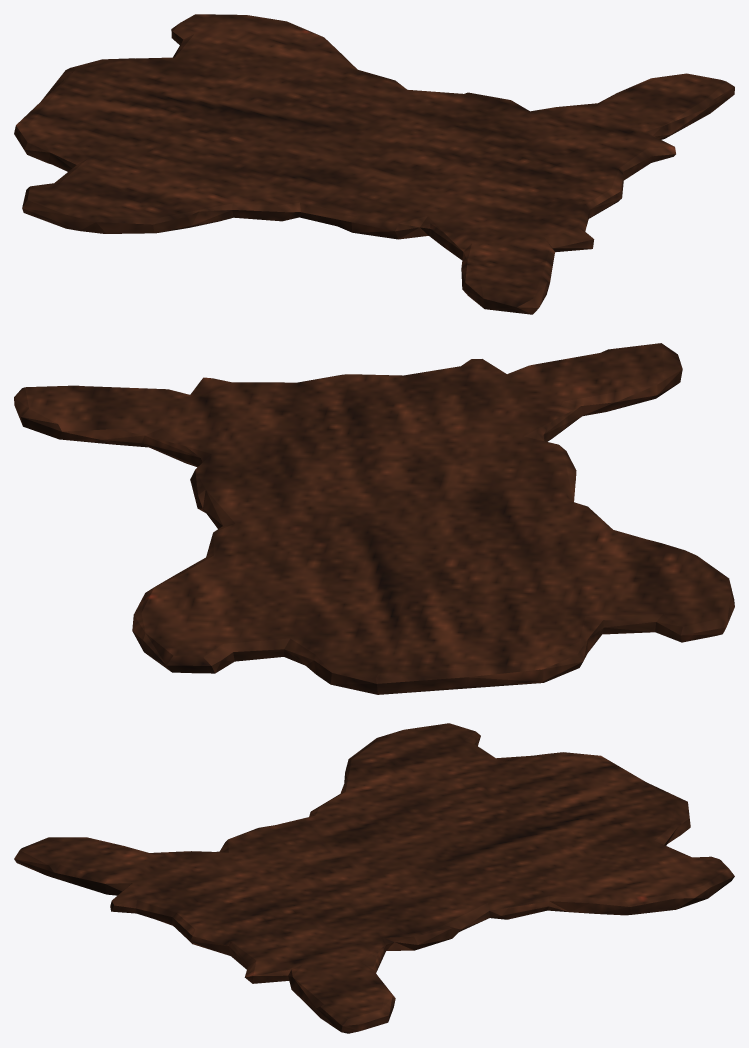
File: Carpet.fbx
3 renders of one model, top to bottom at view 1: azimuth 30°, elevation 25°; view 2: azimuth 150°, elevation 25°; view 3: azimuth 270°, elevation 25°, orthographic. The views are drawn at different scales.
Parts seen in each view (by area): view 1: carpet; view 2: carpet; view 3: carpet.
Part boxes in pixels (left/top/right/bottom): carpet: left=14, top=14, right=734, bottom=314; carpet: left=14, top=343, right=734, bottom=694; carpet: left=14, top=723, right=734, bottom=1033.
Size of the model in its own units: 3.52 by 0.082 by 3.55.
